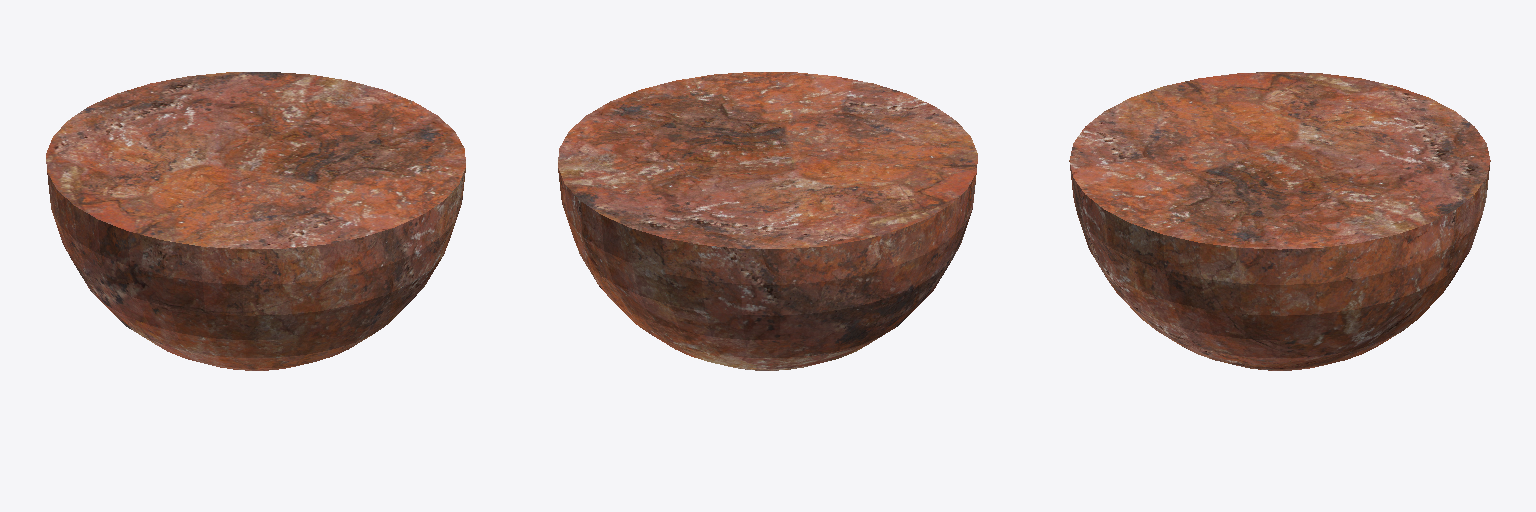
3 renders of one model, left to right at view 1: azimuth 30°, elevation 25°; view 2: azimuth 150°, elevation 25°; view 3: azimuth 270°, elevation 25°, orthographic.
Parts seen in each view (by area): view 1: Sphere; view 2: Sphere; view 3: Sphere.
Boxes of the visible parts, box(x1,y1,x2,y2) form: Sphere: box(46, 72, 465, 370); Sphere: box(558, 72, 977, 370); Sphere: box(1069, 72, 1490, 370).
Bounding box in the file's own units: 2 × 1 × 2.
1 materials, 1 textured.